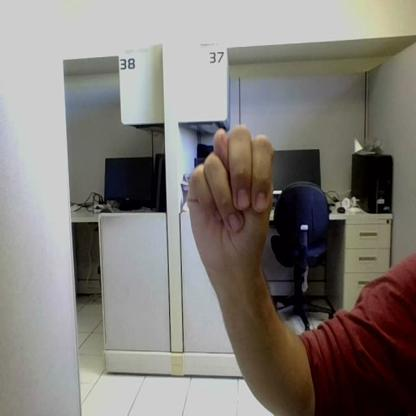N: (189, 126, 273, 265)
